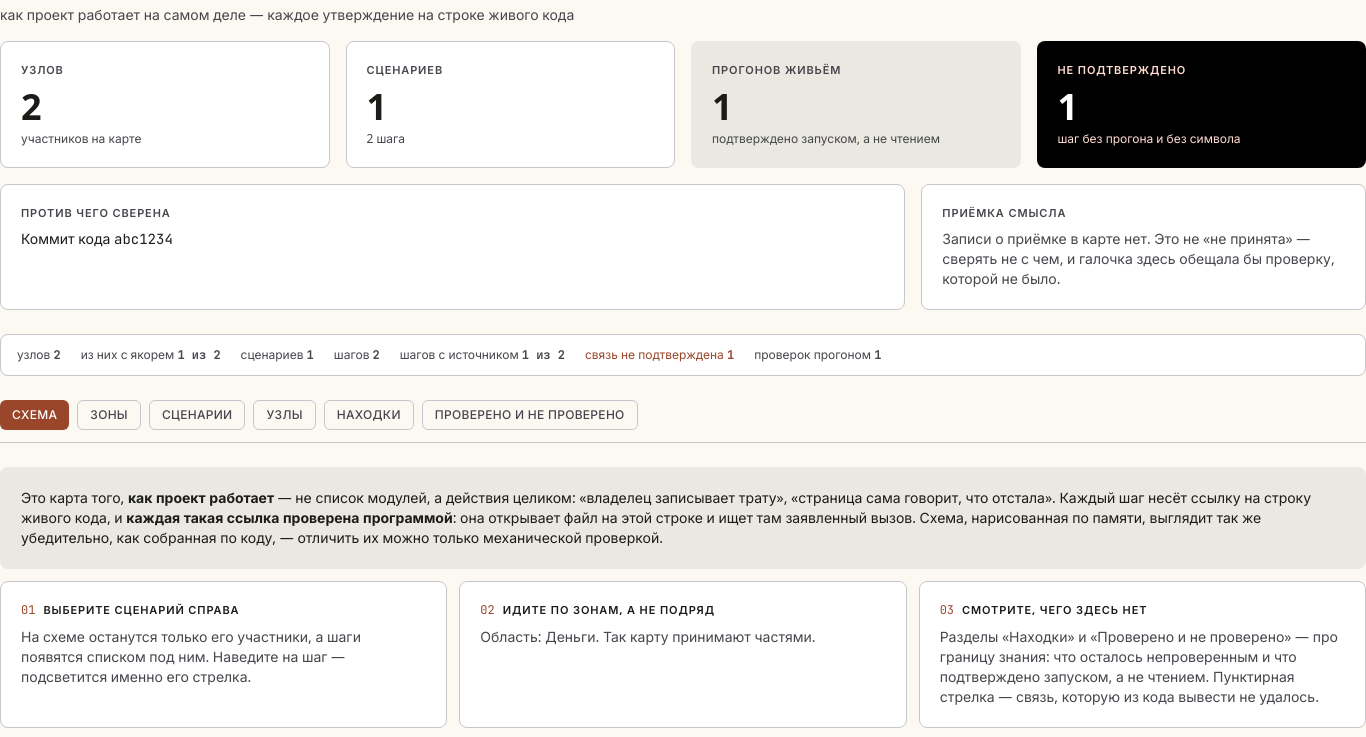
Test: ArchitectureView › разворачивает шаги сценария и называет непроверенный вслух
Click the button "Сценарии" at (197, 415), box [149, 400, 246, 430]
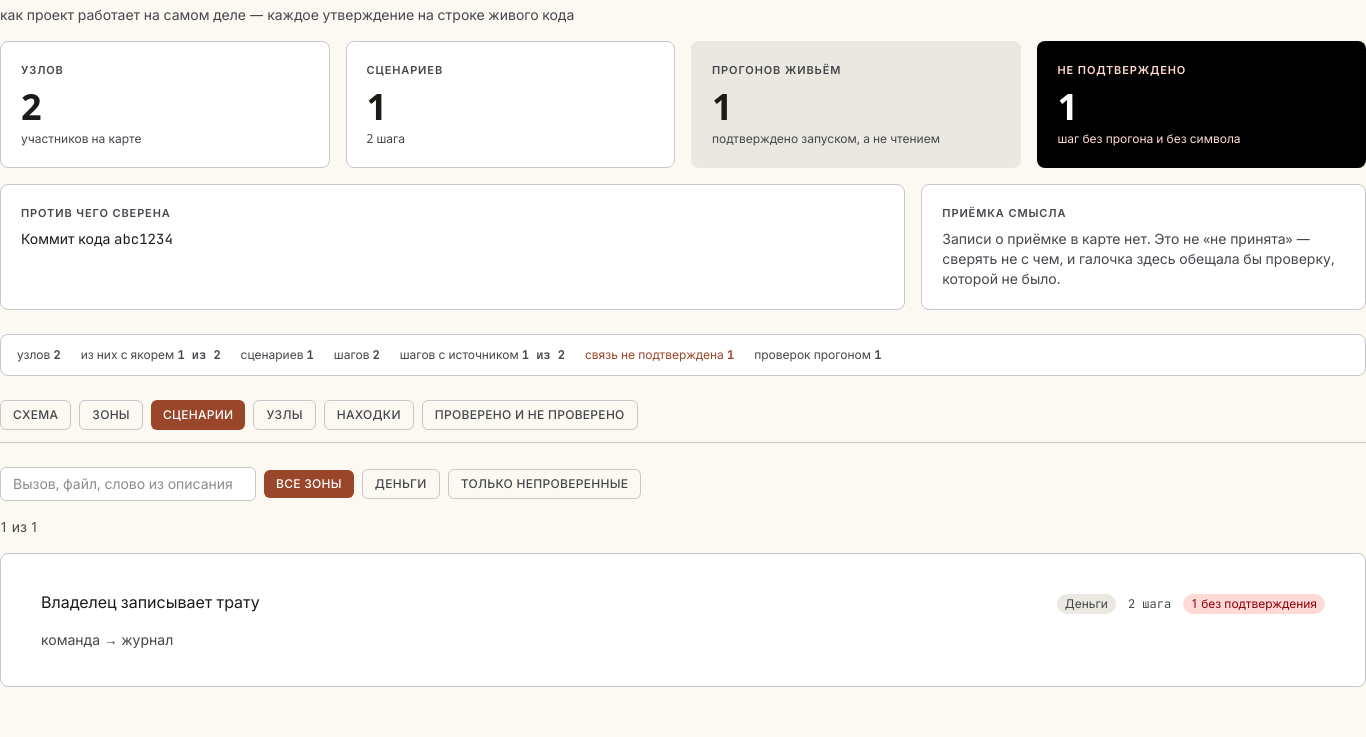
Click the text "Владелец записывает трату" at (150, 602), box [41, 591, 260, 613]
(page scrolled)
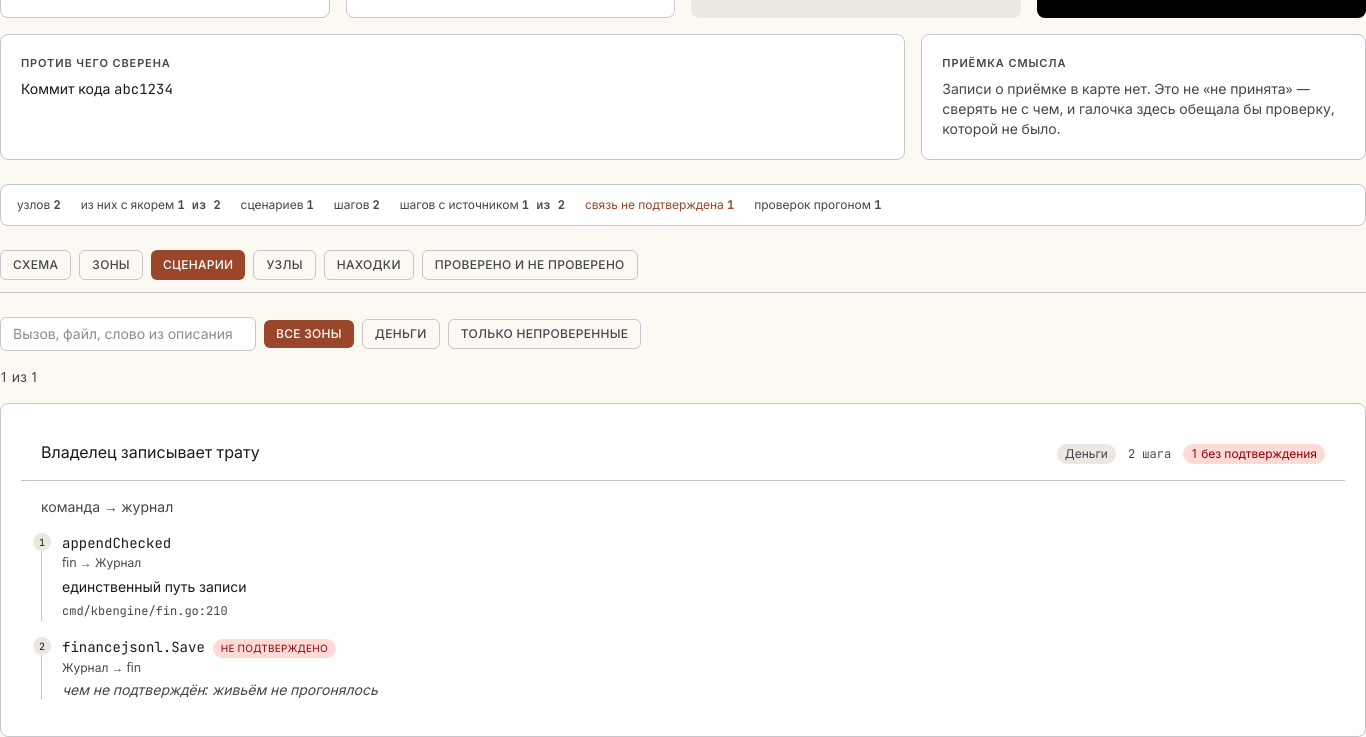
Expected: the text "appendChecked" is shown, [62, 533, 171, 553]
Expected: the text "не подтверждено" is shown, [213, 639, 336, 658]
Expected: the text "чем не подтверждён: живьём не прогонялось" is shown, [62, 680, 378, 699]
